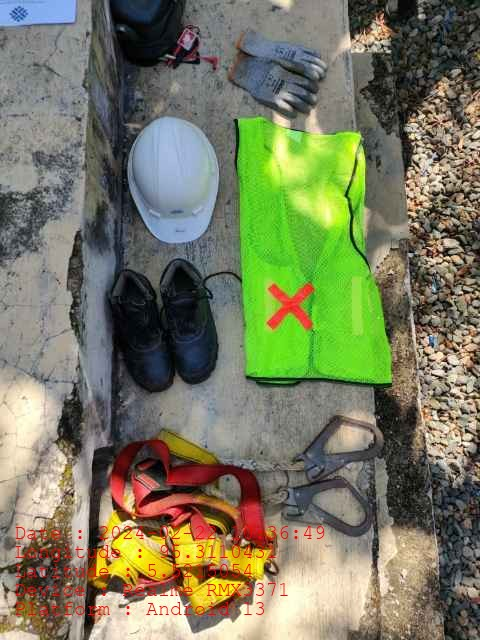HELM: (127, 117, 220, 245)
ROMPI: (235, 117, 388, 382)
SARUNG TANGAN: (229, 30, 331, 116)
SEPATU: (108, 259, 217, 391)
